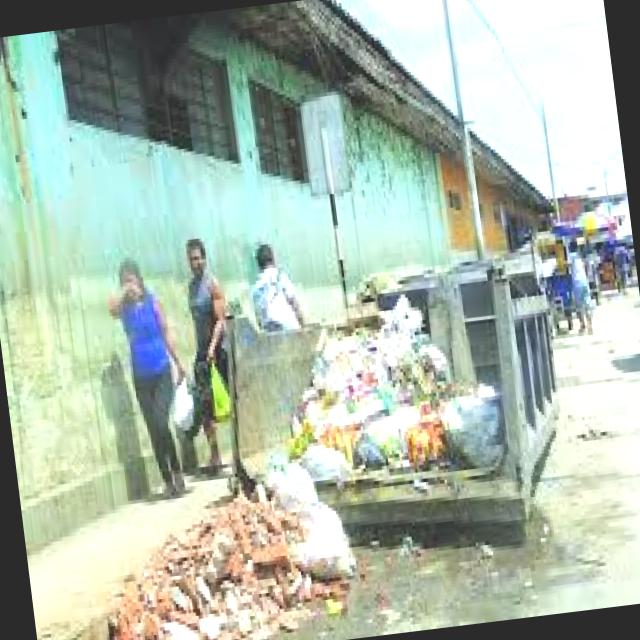garbage: (272, 277, 508, 494), (70, 464, 346, 640)
